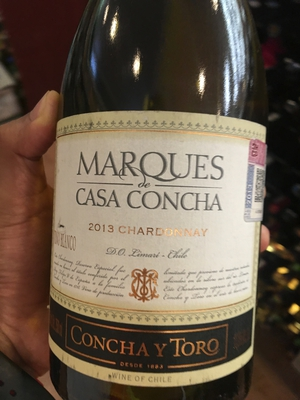marques de casa concha chardonnay: (45, 19, 262, 400)
